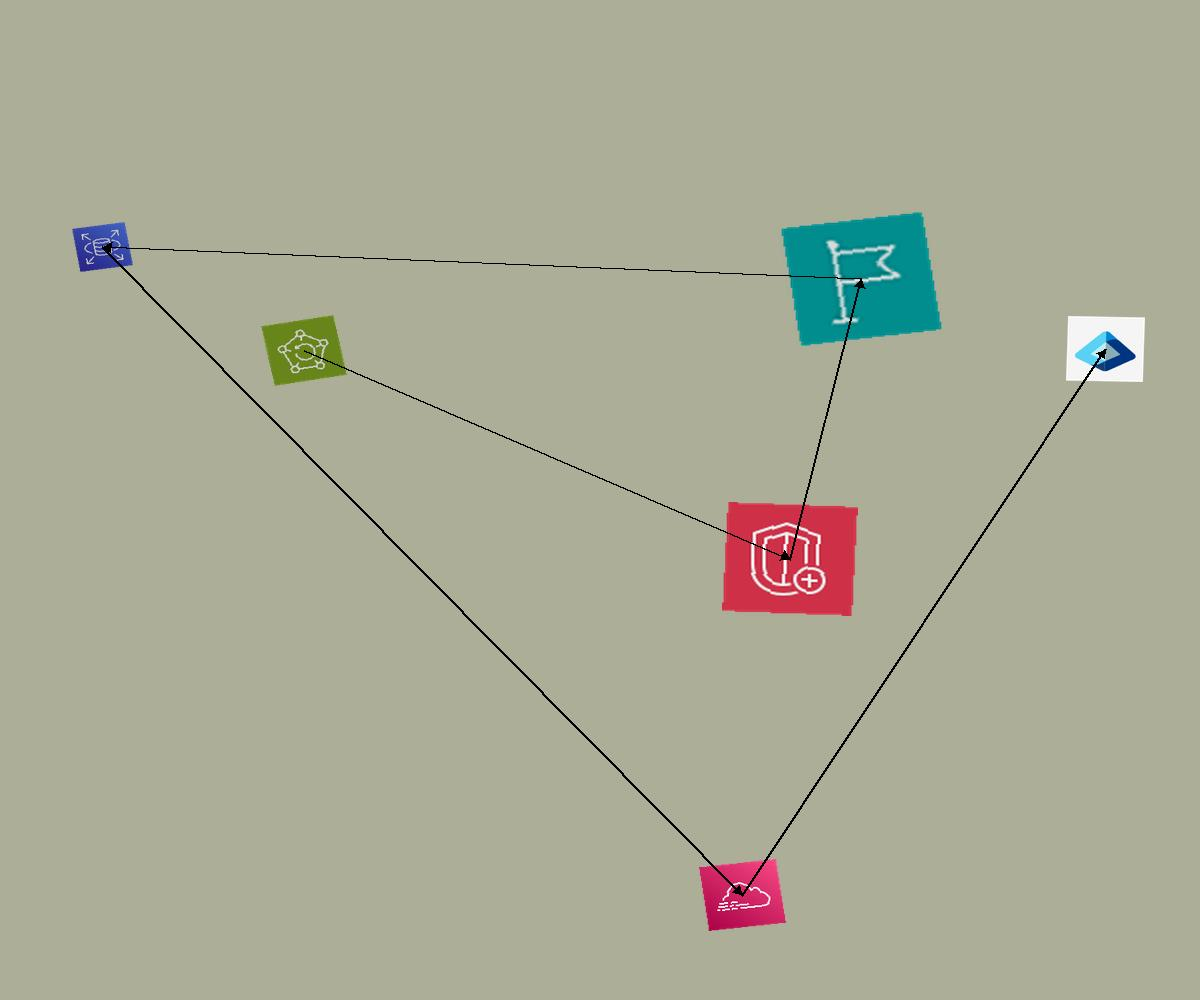AWS-Backup: (261, 315, 347, 386)
AWS-CloudTrail: (699, 859, 786, 931)
AWS-RDS: (72, 222, 133, 272)
AWS-Region: (780, 211, 943, 347)
AWS-Shield: (722, 502, 858, 616)
Azure_microsoft_entra: (1066, 316, 1145, 382)
